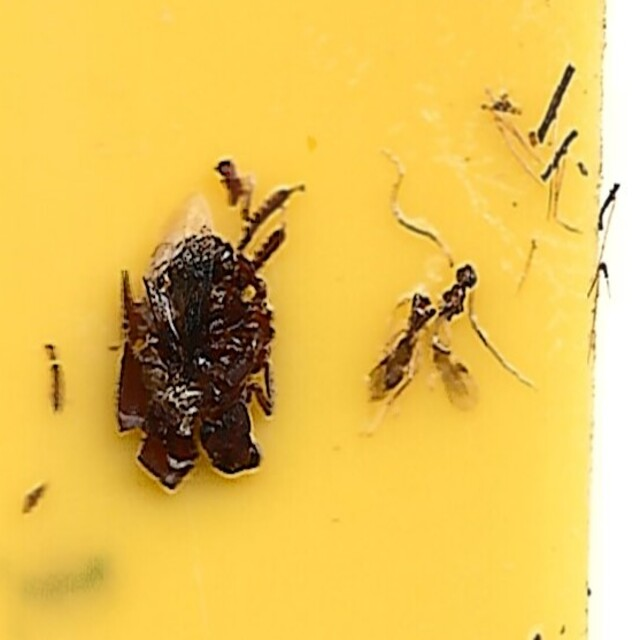Coleoptera: (115, 226, 283, 486)
Hymenoptera: (381, 154, 525, 382), (358, 289, 479, 418)
